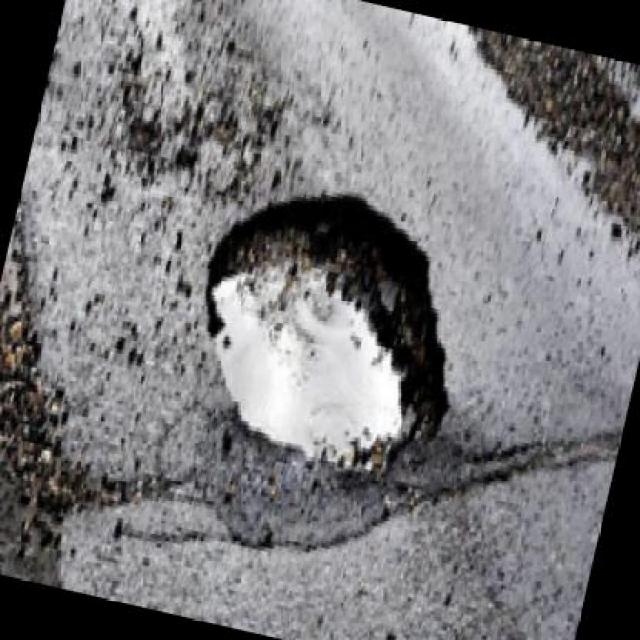pothole1: (163, 155, 499, 494)
